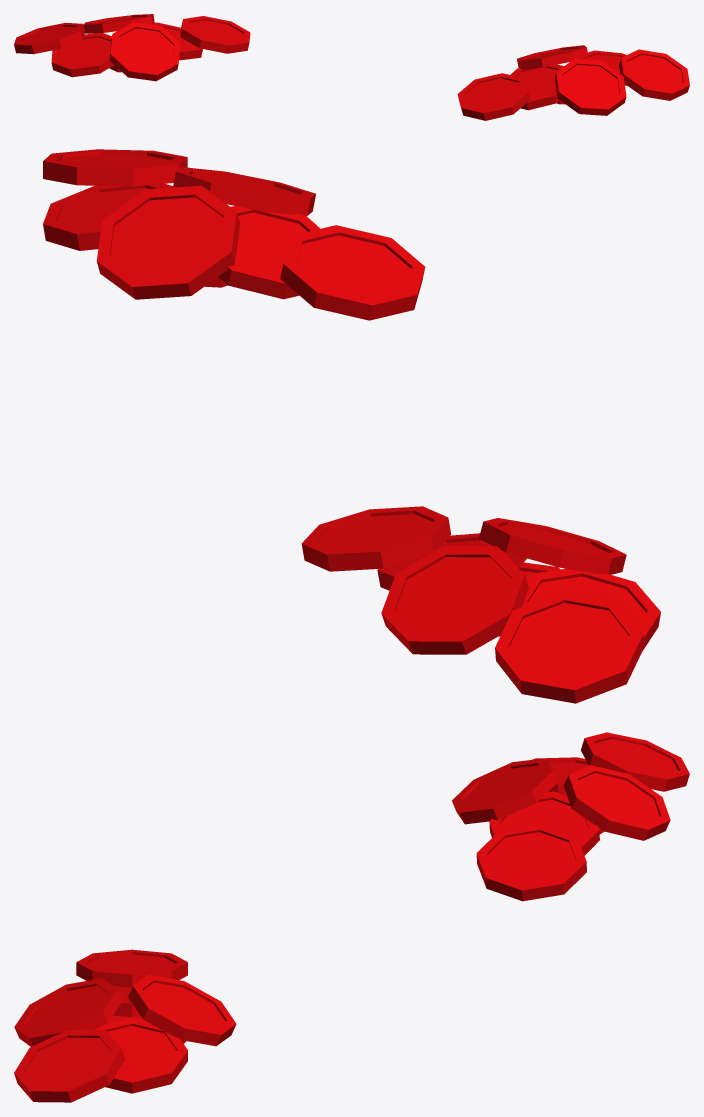
The model's file is TokenPiles.fbx.
3 renders of one model, top to bottom at view 1: azimuth 30°, elevation 25°; view 2: azimuth 150°, elevation 25°; view 3: azimuth 270°, elevation 25°, orthographic. The views are drawn at different scales.
Visible parts, largest first — view 1: AITokenPile, PlayerTokenPile; view 2: PlayerTokenPile, AITokenPile; view 3: PlayerTokenPile, AITokenPile.
Part boxes in pixels (x1,y1,x2,y2): AITokenPile: (457,45,689,120); PlayerTokenPile: (14,14,250,81); PlayerTokenPile: (301,506,660,703); AITokenPile: (43,149,425,320); PlayerTokenPile: (452,732,689,901); AITokenPile: (14,949,236,1102).
Size of the model in its own units: 0.2684 by 0.0195 by 0.2184.
